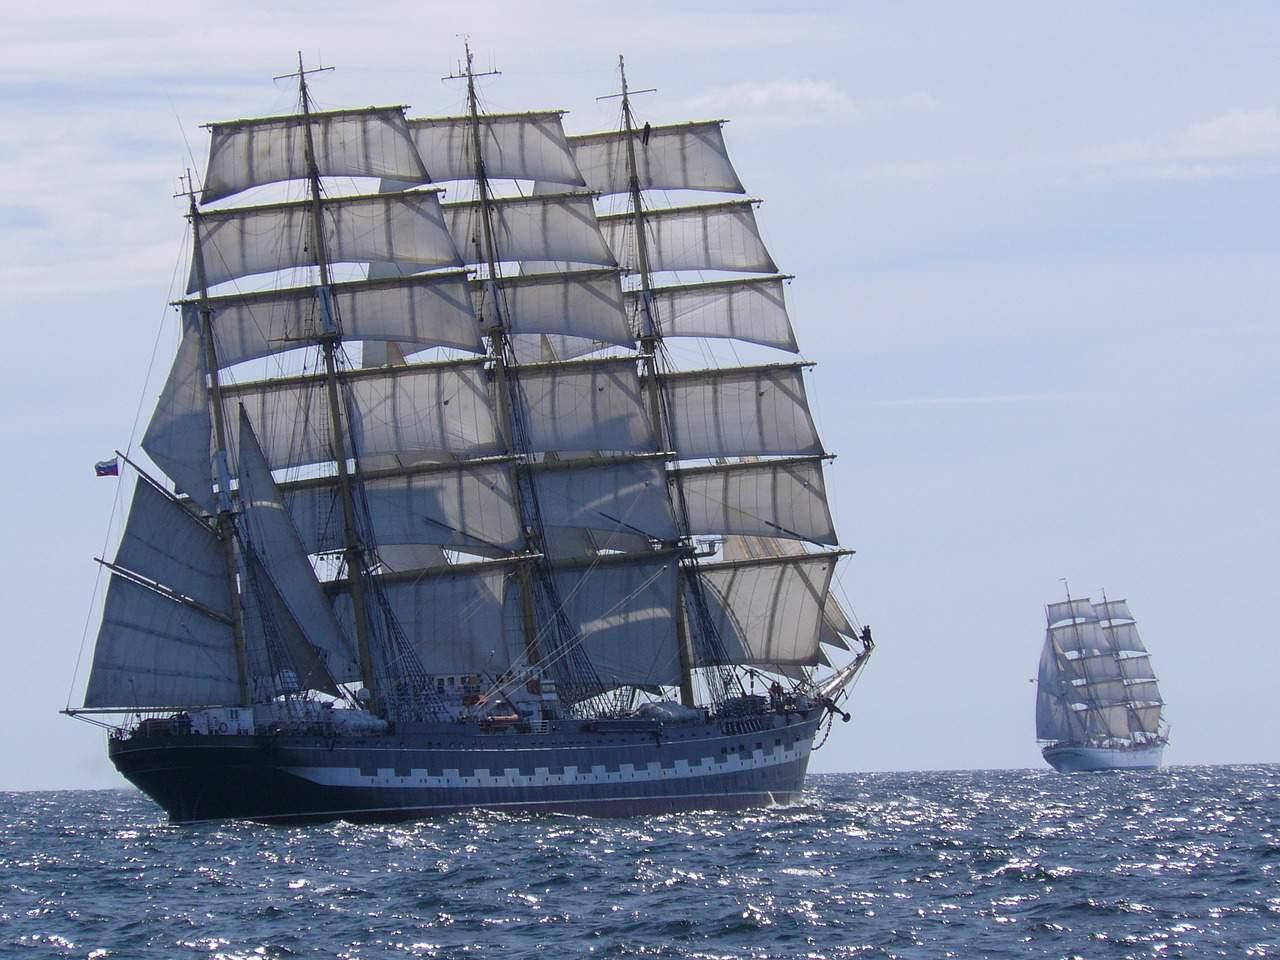Ship: (61, 43, 877, 822), (1034, 578, 1171, 773)
